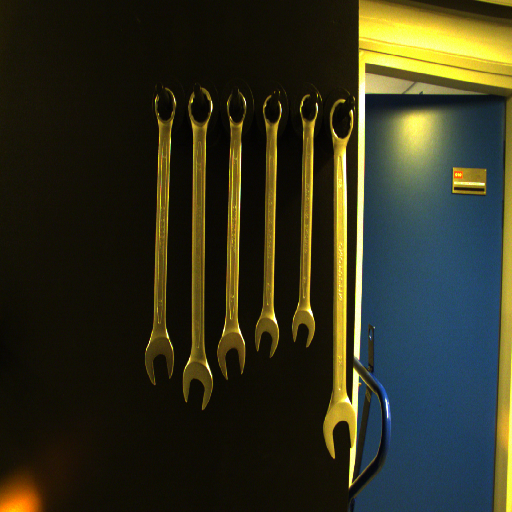bottom: (320, 398, 362, 463), (143, 333, 179, 388), (180, 360, 214, 411), (214, 335, 249, 381), (250, 315, 282, 359), (288, 310, 318, 349)
top: (183, 86, 214, 128), (329, 97, 356, 142), (149, 86, 178, 124), (222, 87, 248, 127), (260, 89, 285, 129), (295, 91, 321, 126)
